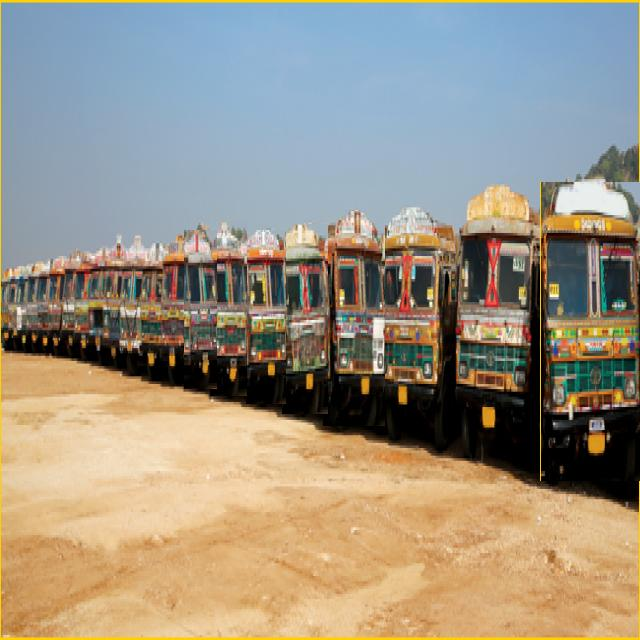truck: (540, 182, 640, 481), (455, 185, 544, 457), (376, 208, 458, 448), (324, 211, 385, 426), (282, 225, 328, 414), (246, 230, 286, 404), (211, 221, 247, 396), (185, 231, 217, 389), (161, 234, 190, 384)
